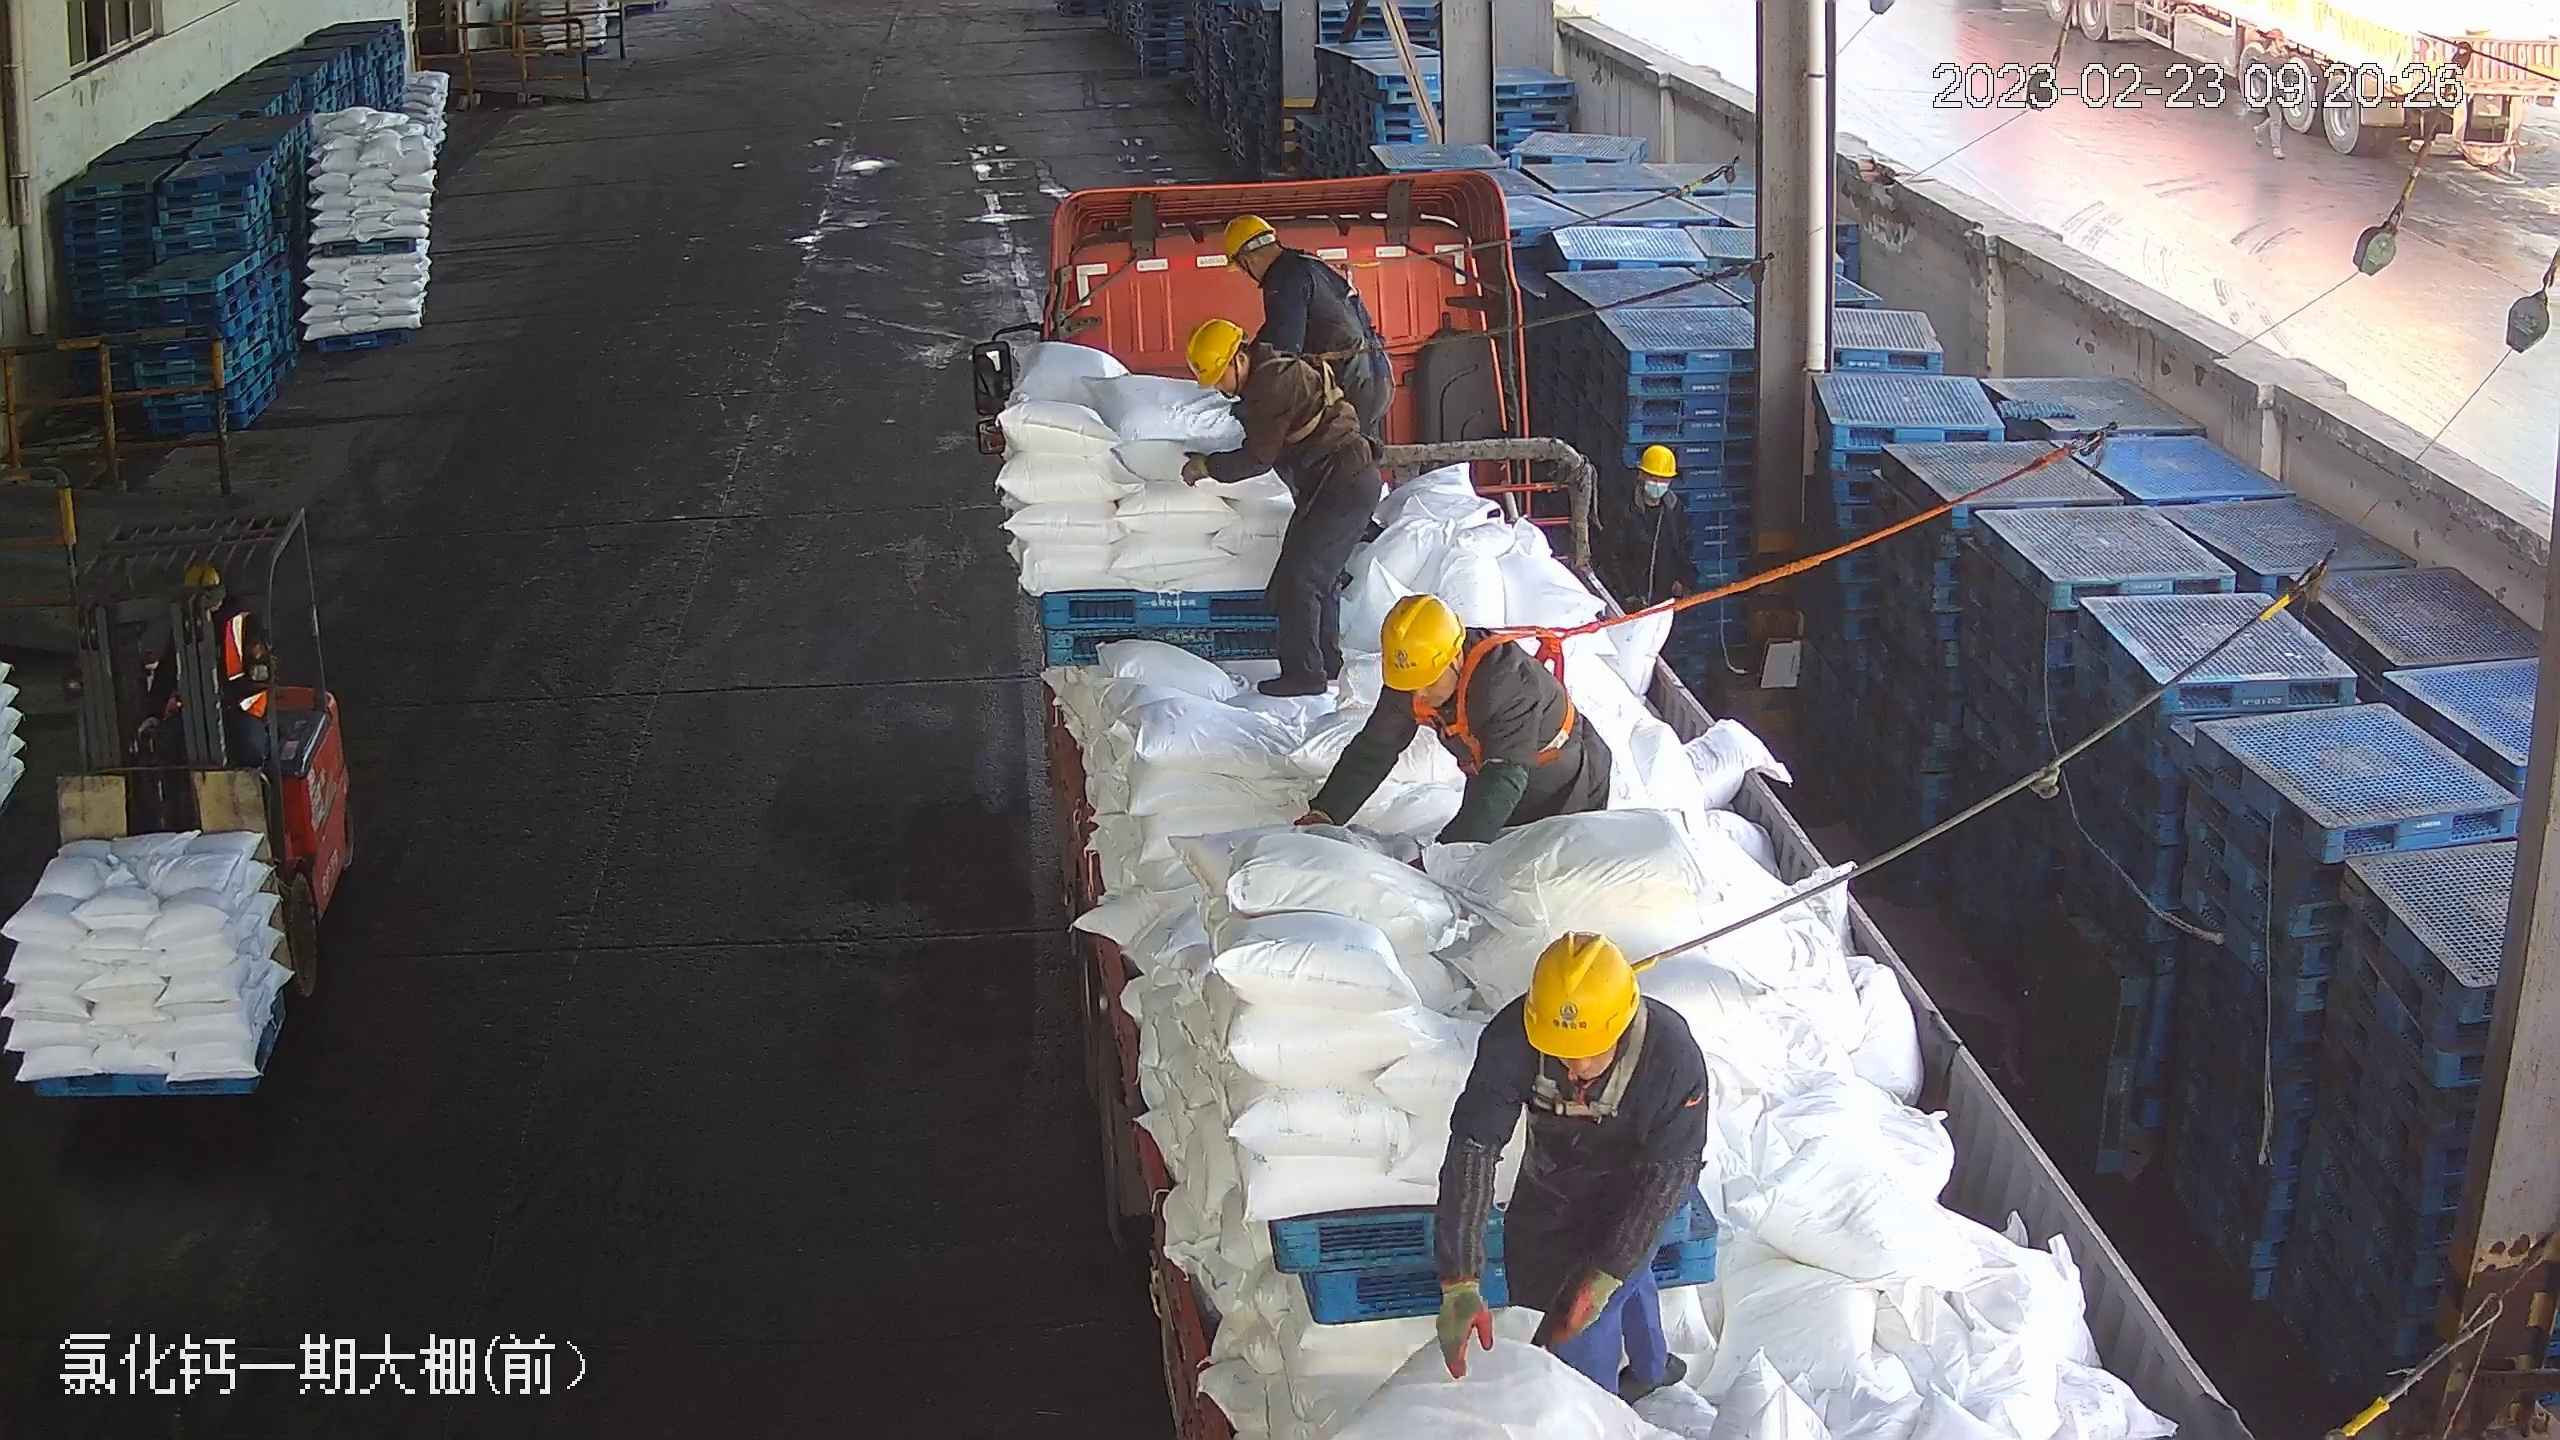belt: (1425, 619, 1601, 770), (1525, 988, 1669, 1119), (1248, 345, 1356, 445), (1305, 241, 1377, 293)
head: (1473, 927, 1693, 1127), (1368, 590, 1552, 740), (1189, 320, 1306, 423), (1219, 214, 1330, 308), (1377, 592, 1468, 691), (1611, 443, 1686, 528)
helmet: (1526, 928, 1639, 1058), (1376, 591, 1461, 687), (1183, 315, 1244, 388), (1219, 215, 1276, 265), (1636, 441, 1678, 477), (181, 562, 223, 588)
people: (1434, 932, 1711, 1411), (1179, 312, 1382, 705), (1304, 597, 1609, 858), (1219, 210, 1391, 439), (1597, 441, 1691, 611)
truck: (968, 157, 2264, 1439)
